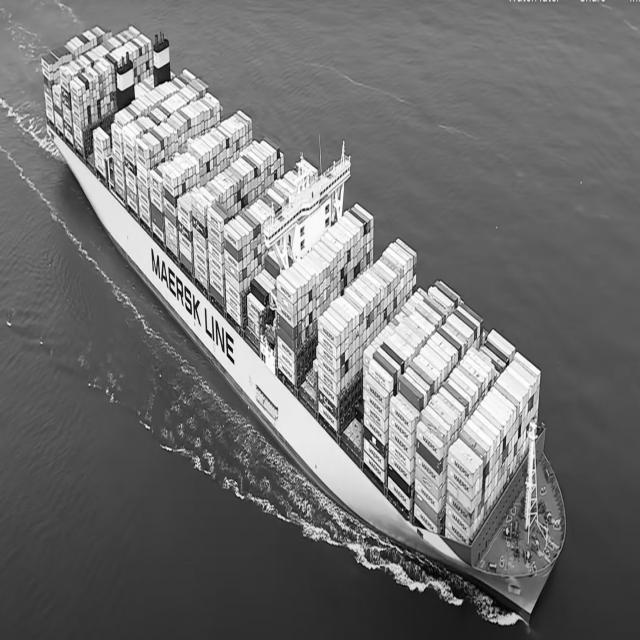Container Ship: (34, 11, 587, 634)
